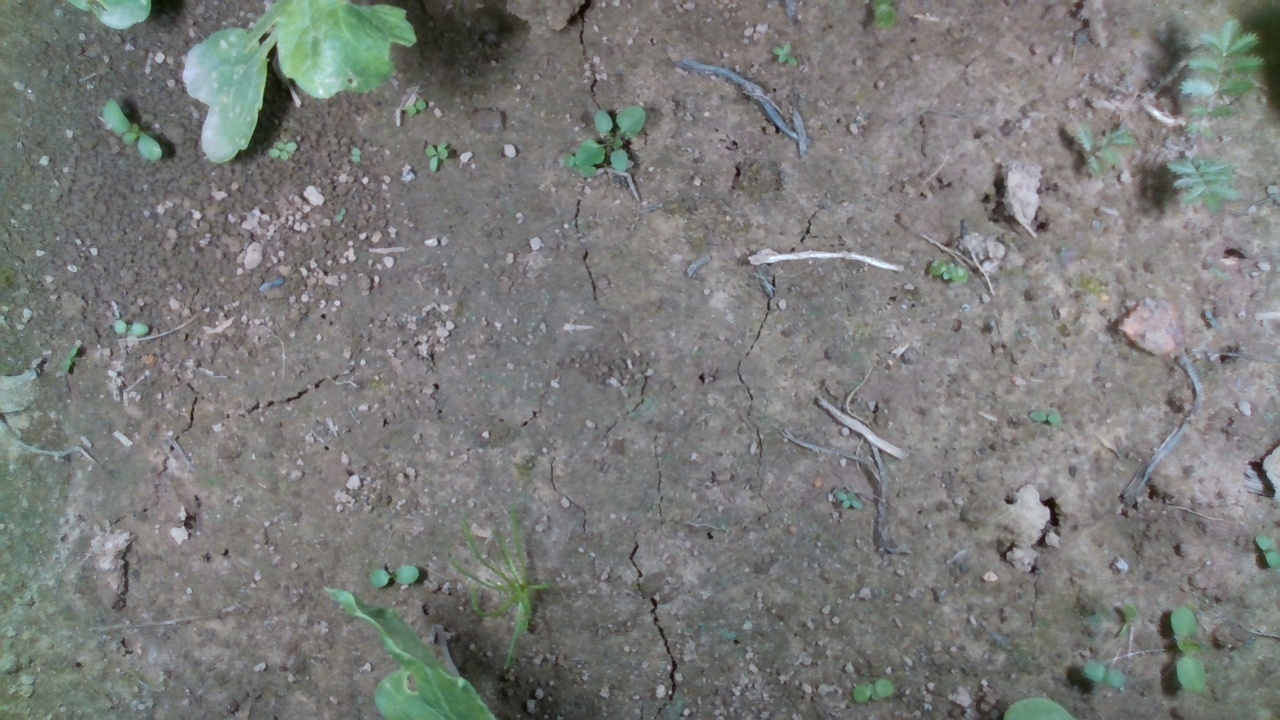weed: (100, 97, 163, 163)
